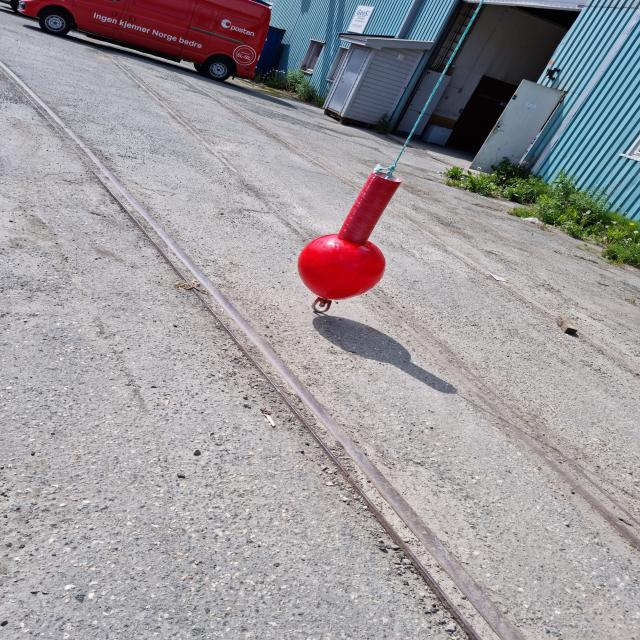red: (298, 175, 402, 298)
